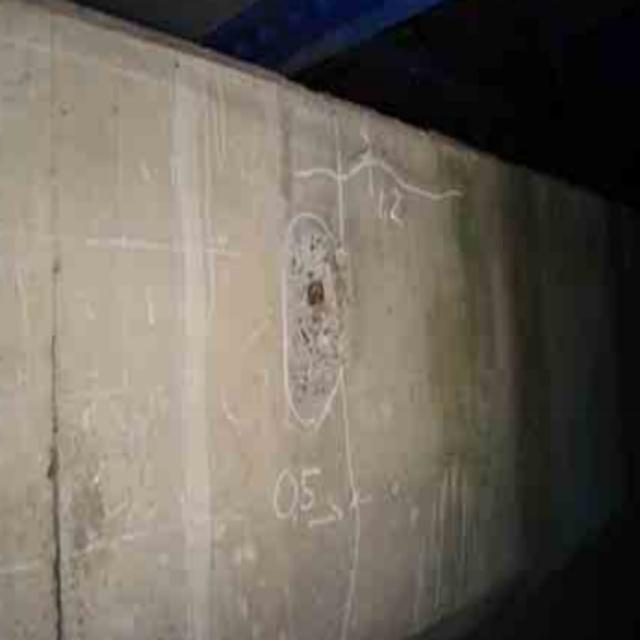spalling: (268, 207, 368, 424)
